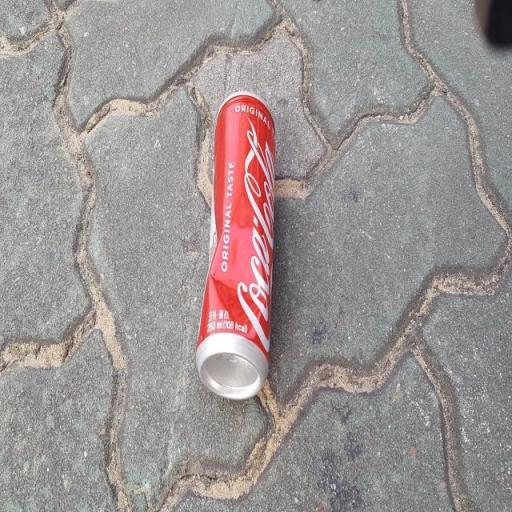metal: (173, 74, 297, 401)
